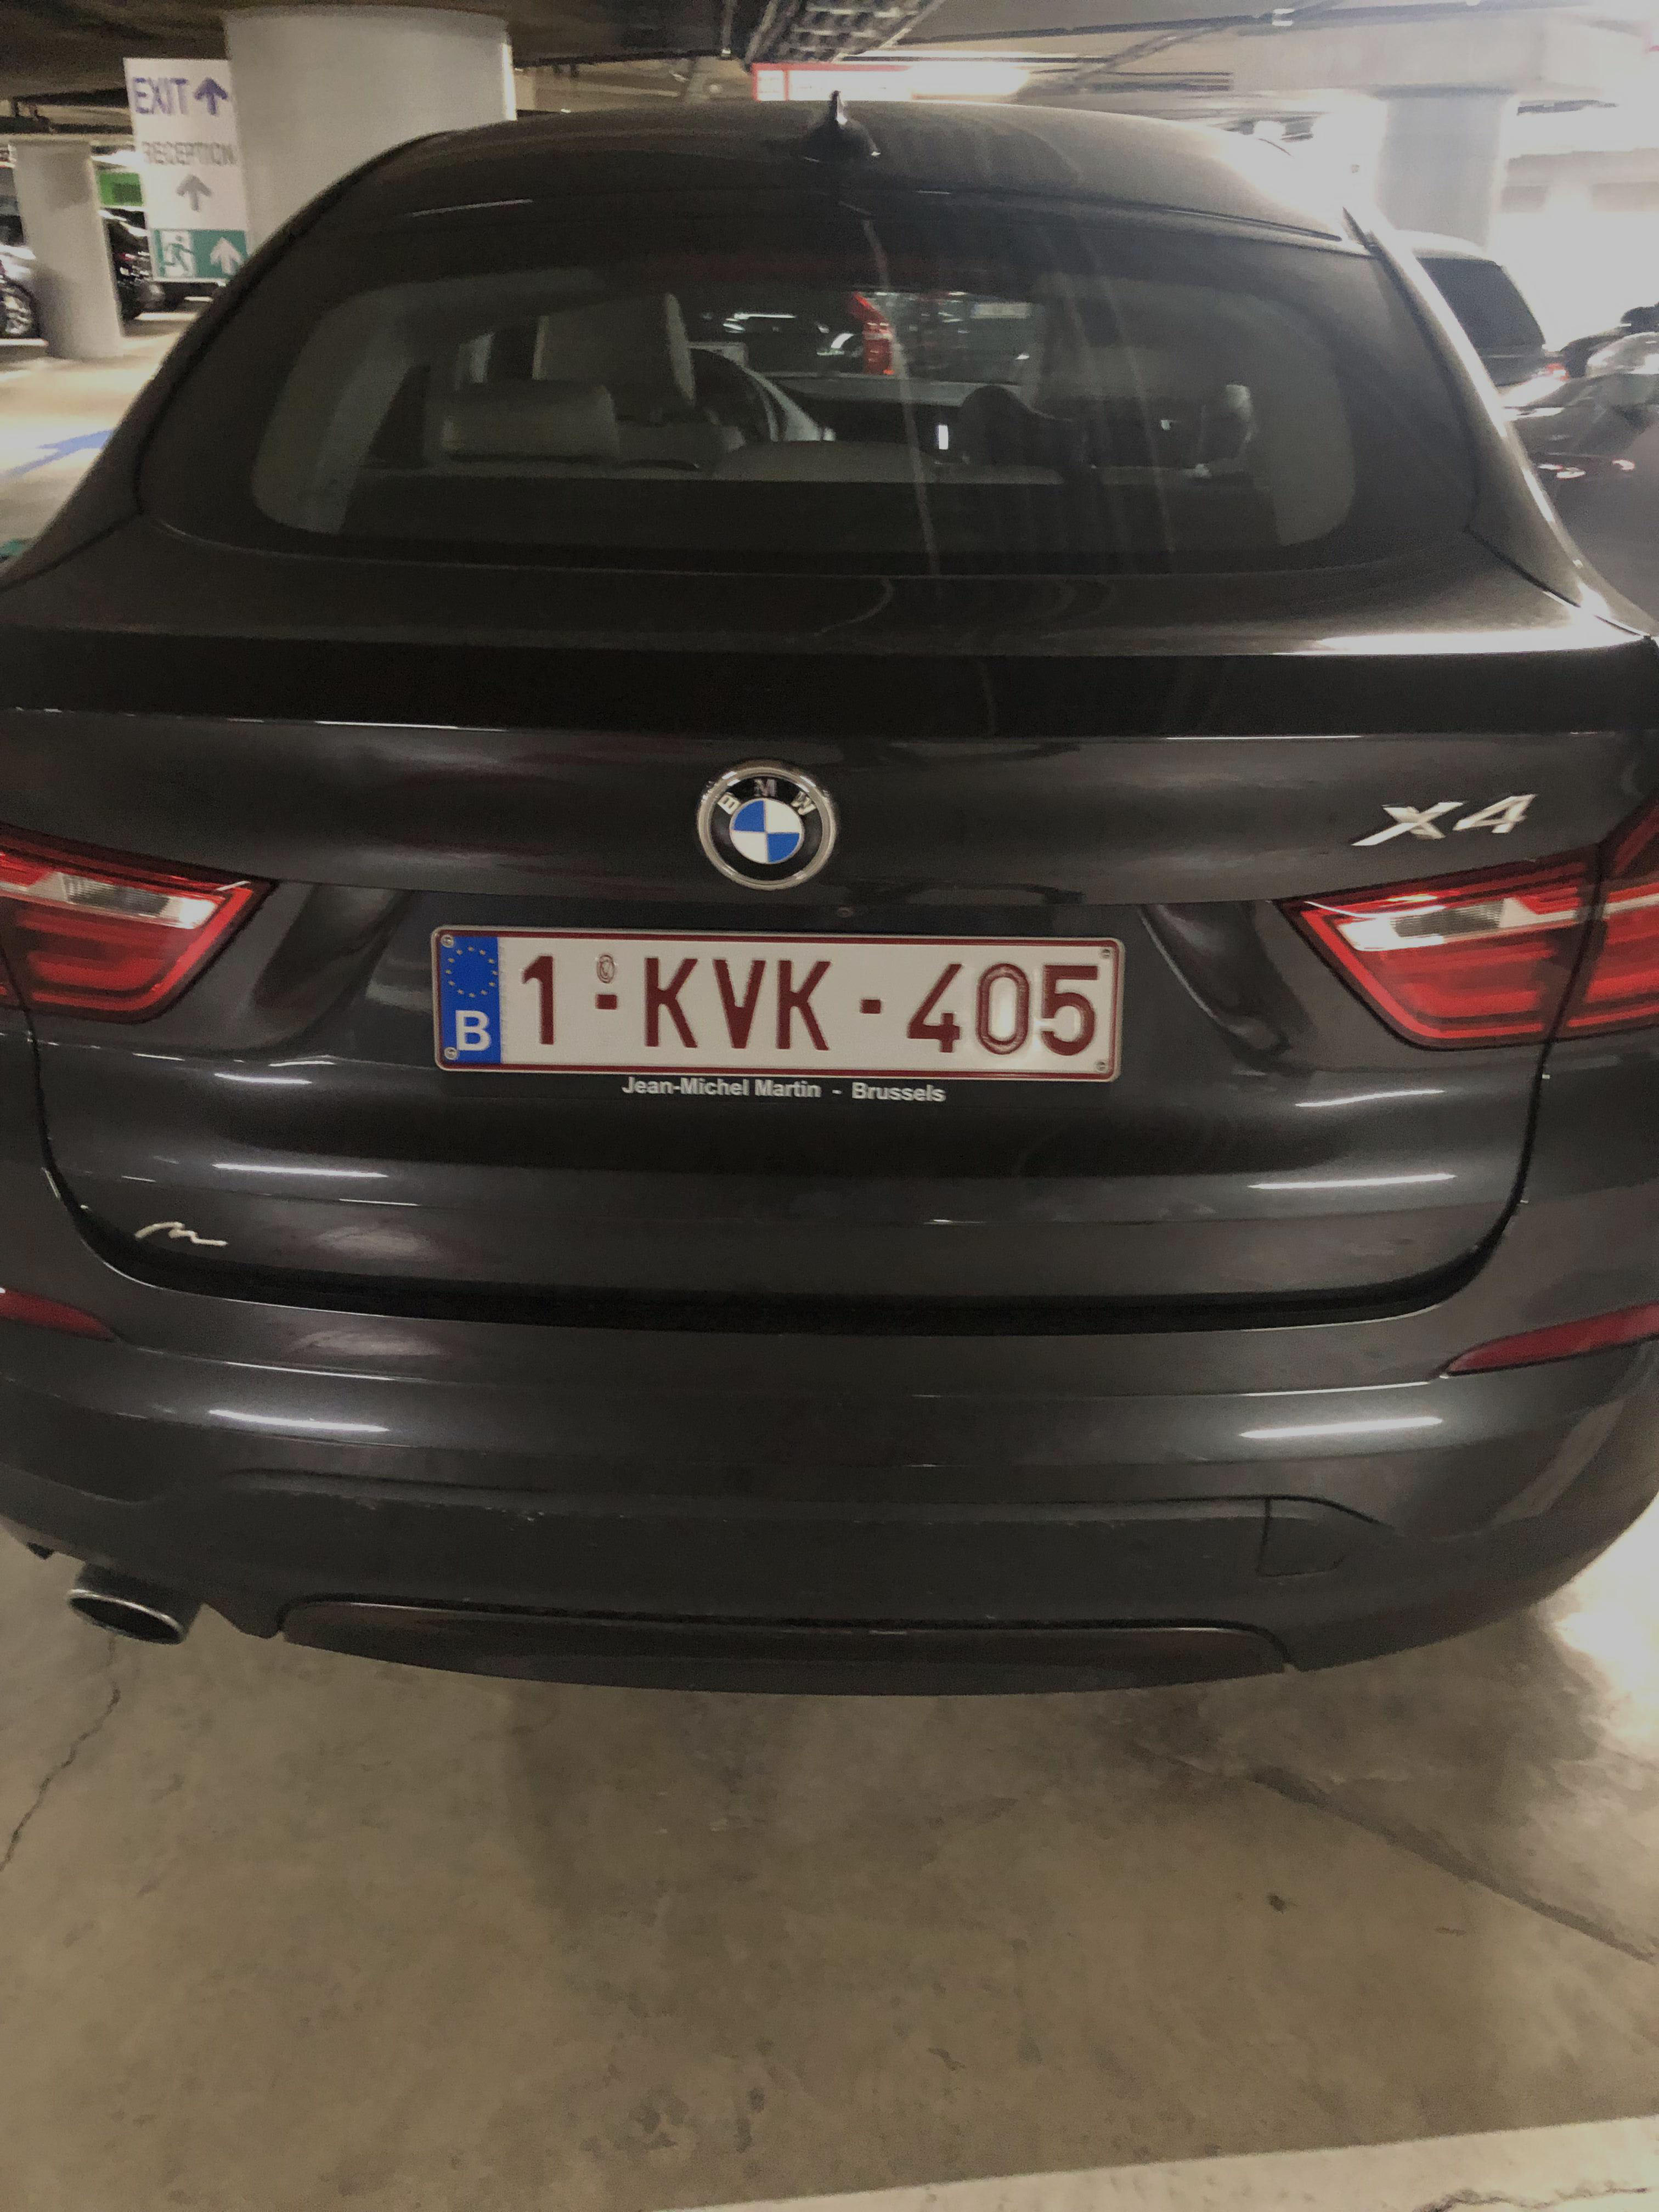plate: (512, 915, 1253, 1091)
